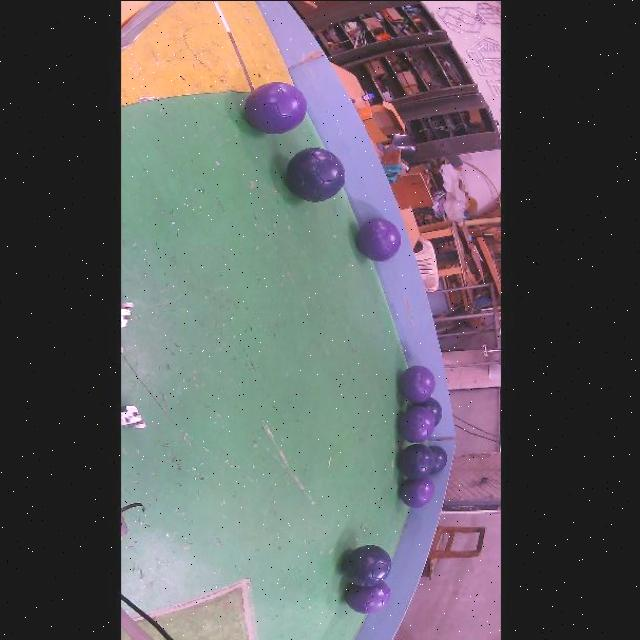B: (287, 146, 345, 202), (342, 545, 391, 586), (398, 443, 435, 479), (412, 397, 443, 426), (428, 445, 448, 474)
P: (245, 82, 307, 133), (356, 218, 401, 260), (345, 581, 390, 614), (399, 365, 435, 402), (399, 405, 435, 442), (399, 476, 435, 508)
